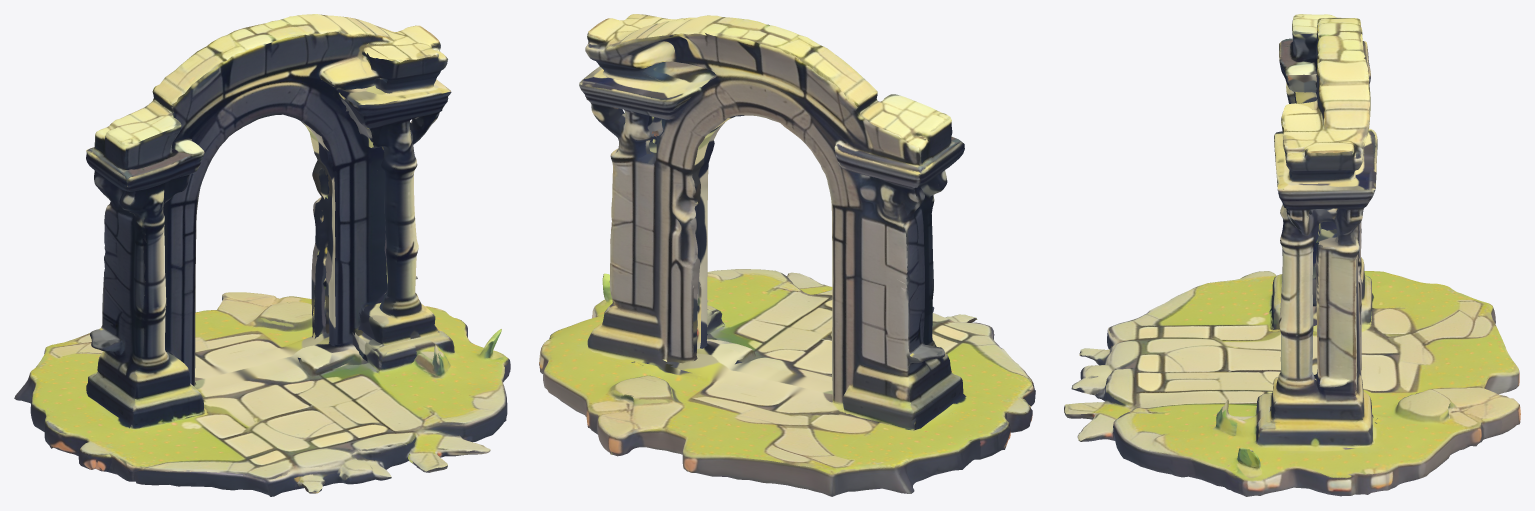
Rendered from puerta-hub-1.glb.
The picture shows the model from 3 angles, left to right: view 1: azimuth 30°, elevation 25°; view 2: azimuth 150°, elevation 25°; view 3: azimuth 270°, elevation 25°; orthographic projection. The views are drawn at different scales.
Parts seen in each view (by area): view 1: RuinedArchway_0; view 2: RuinedArchway_0; view 3: RuinedArchway_0.
Boxes of the visible parts, left/top/right/bottom form: RuinedArchway_0: left=14, top=14, right=510, bottom=496; RuinedArchway_0: left=539, top=14, right=1035, bottom=496; RuinedArchway_0: left=1064, top=14, right=1520, bottom=496.
Size of the model in its own units: 3.71 by 3 by 3.4.
1 material, 1 textured.
